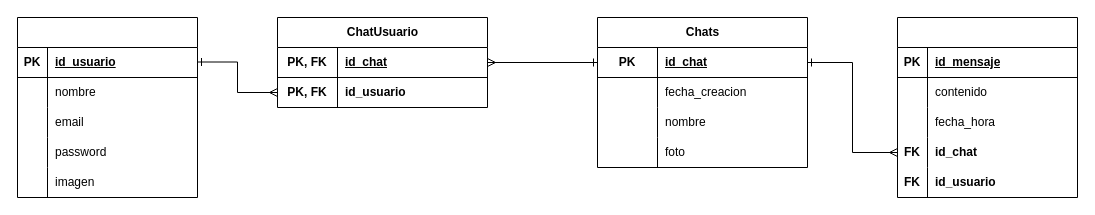
Image size: 1095x215. Some labels were removed from this diagram. The shapes that lost their labels are listed below. From the top down, each one's box as (x1, y1, x2, y2) in pixels, then its label:
(16, 16, 198, 198): UsuarioChat
(896, 16, 1078, 198): Mensajes
